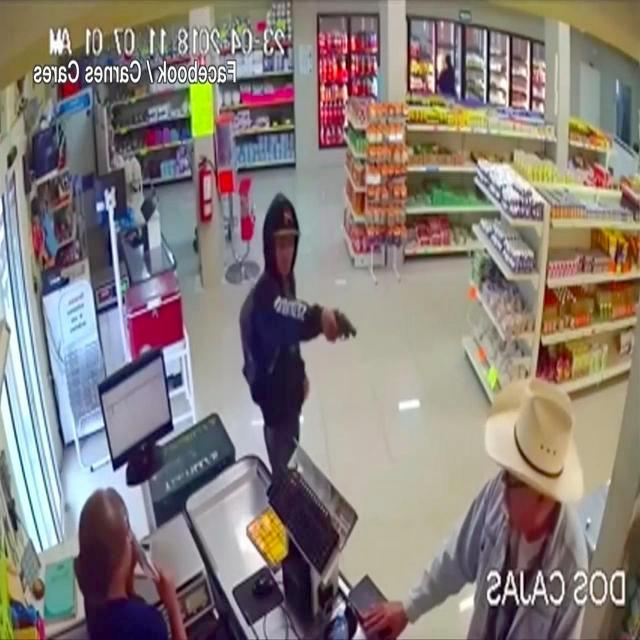gun: (234, 190, 364, 442), (322, 302, 358, 345)
